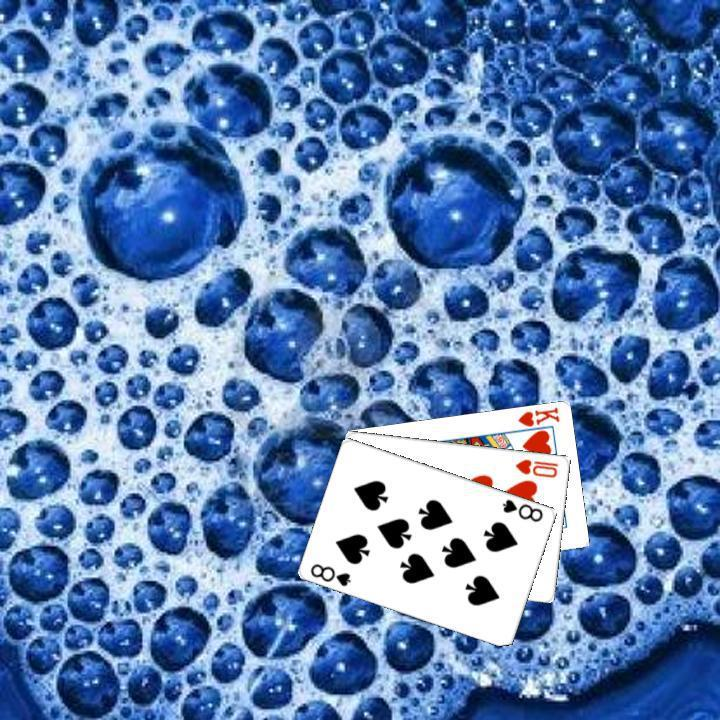10: (511, 454, 560, 479)
8: (498, 494, 545, 524), (306, 559, 353, 588)
K: (514, 402, 561, 428)
